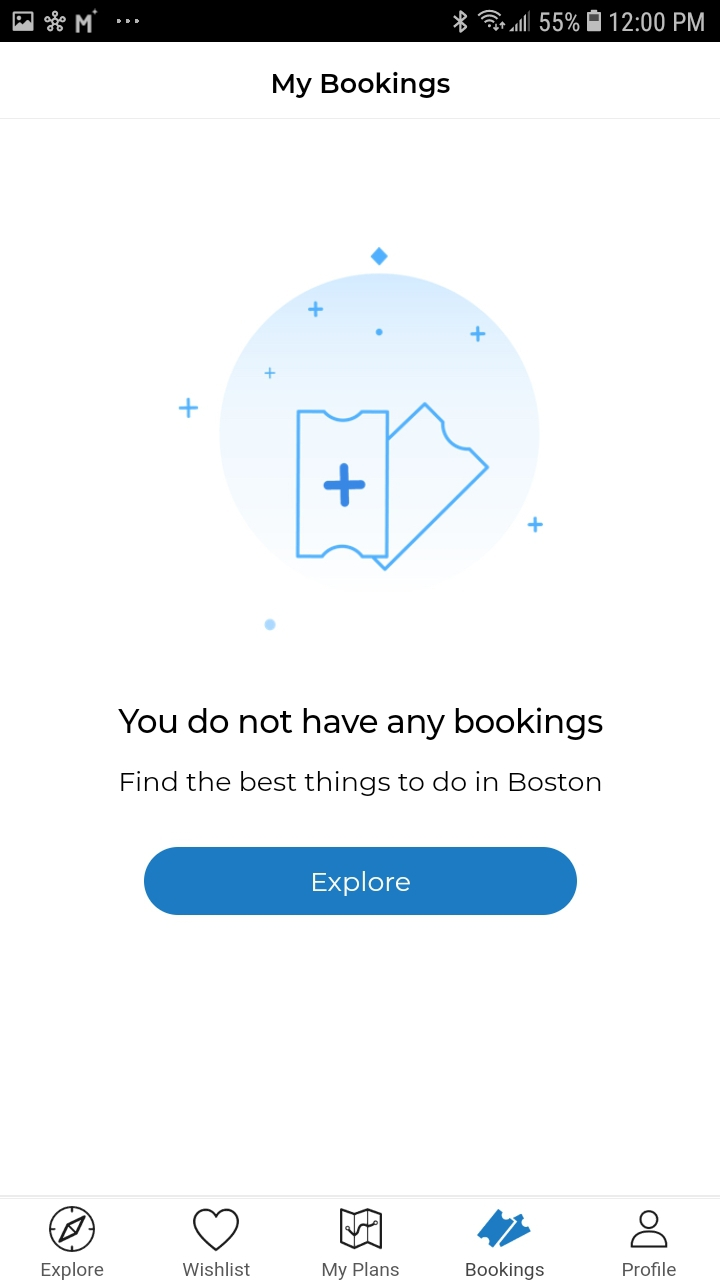Icon: (49, 1206, 96, 1253), (477, 1209, 532, 1248), (193, 1208, 240, 1252), (340, 1207, 383, 1250), (630, 1210, 668, 1249)
Image: (179, 247, 544, 631)
Text: (119, 707, 604, 797), (273, 73, 451, 100), (466, 1261, 545, 1280), (323, 1262, 400, 1280), (42, 1261, 104, 1280), (183, 1261, 252, 1277), (623, 1262, 677, 1277)
TextButton: (144, 847, 578, 916)
UpperTaskBar: (2, 1, 720, 43)
